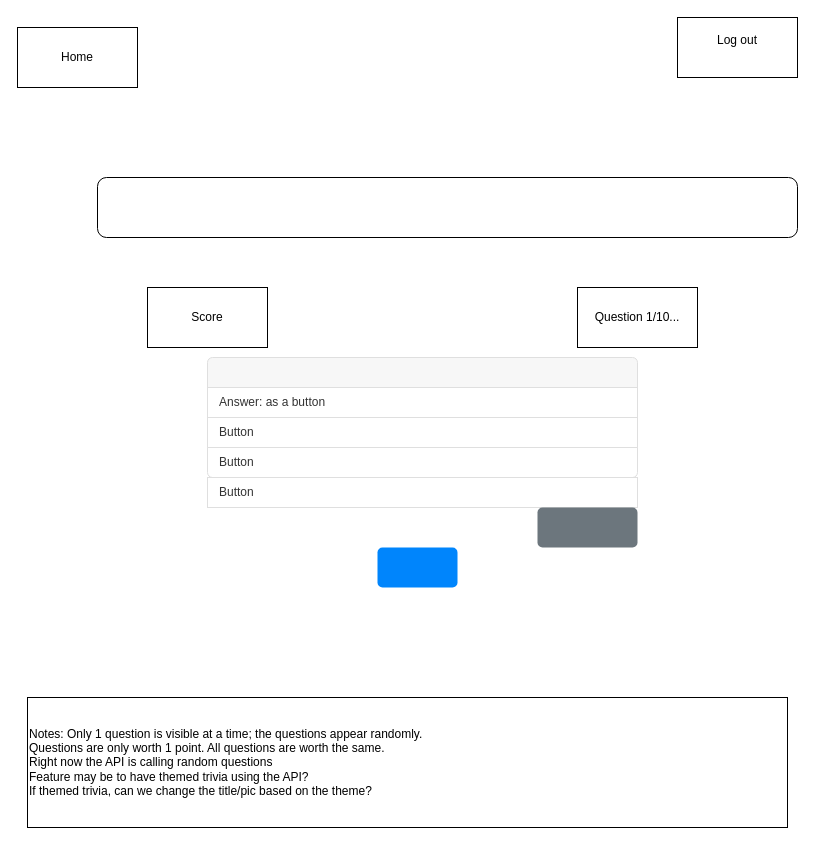
Image size: 815x845. Some labels were removed from this diagram. Each missing label, with the centre of its shape:
"Next Quetion" belongs at point 417,567.
"Question:" belongs at point 422,372.
"Save for later" belongs at point 587,527.
"Title" belongs at point 447,207.
